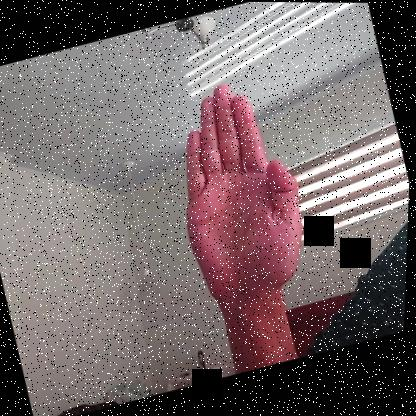B: (150, 68, 329, 308)
